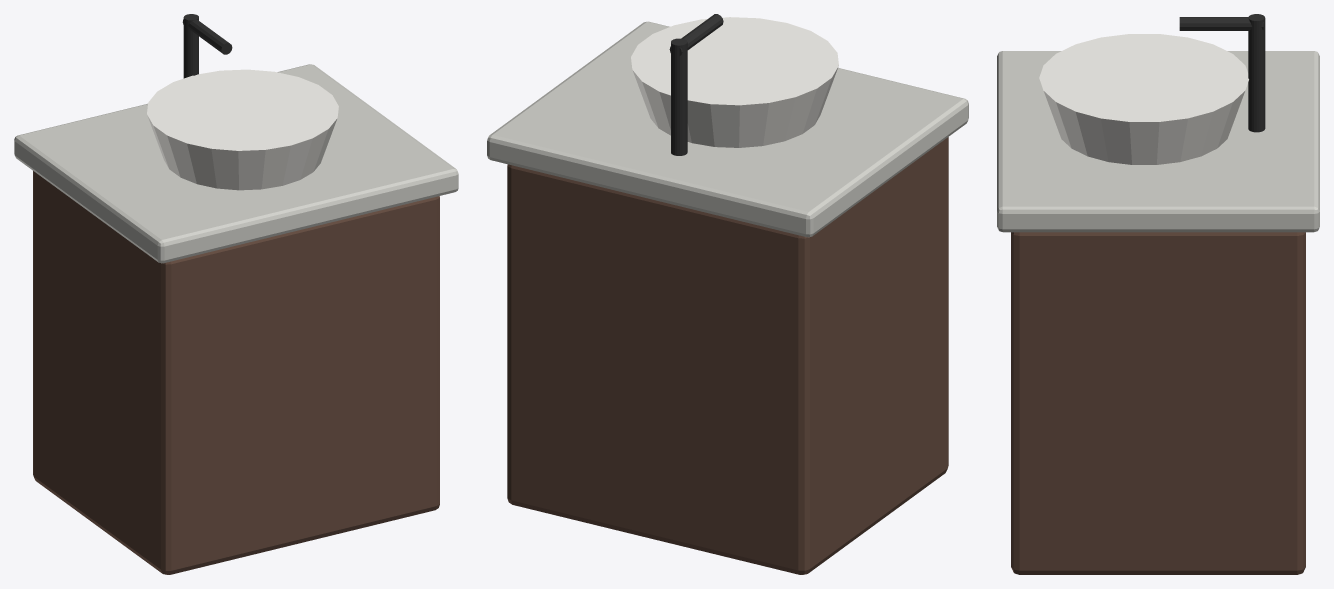
The model's file is vanity.glb.
The picture shows the model from 3 angles, left to right: view 1: azimuth 30°, elevation 25°; view 2: azimuth 150°, elevation 25°; view 3: azimuth 270°, elevation 25°; orthographic projection. The views are drawn at different scales.
Visible parts, largest first — view 1: cabinet, counter, basin, tapStem, spout; view 2: cabinet, counter, basin, tapStem, spout; view 3: cabinet, counter, basin, tapStem, spout.
Part boxes in pixels (x1,y1,x2,y2): cabinet: [33, 171, 439, 574]; counter: [14, 64, 458, 263]; basin: [147, 69, 338, 190]; tapStem: [183, 14, 198, 78]; spout: [182, 19, 232, 54]; cabinet: [507, 137, 948, 574]; counter: [487, 21, 968, 237]; basin: [631, 17, 838, 147]; tapStem: [671, 38, 687, 155]; spout: [669, 14, 723, 55]; cabinet: [1011, 232, 1305, 574]; counter: [997, 51, 1319, 232]; basin: [1039, 34, 1248, 164]; tapStem: [1248, 14, 1265, 132]; spout: [1179, 17, 1263, 30].
Bounding box in the file's own units: 0.54 × 0.765 × 0.46.
